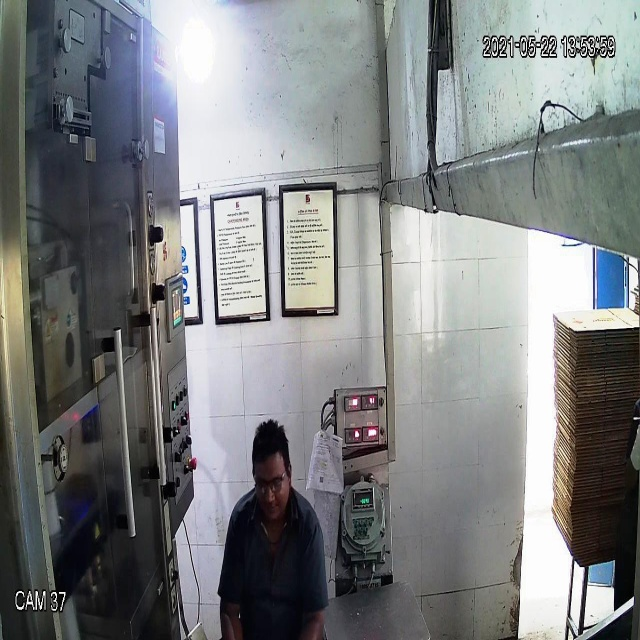Gafas: (246, 459, 298, 500)
